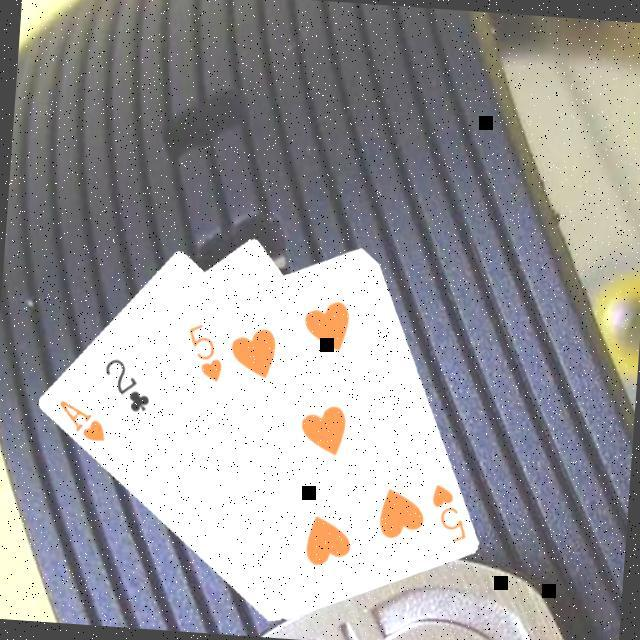2C: (96, 354, 154, 418)
5H: (424, 480, 472, 548), (180, 319, 227, 387)
AH: (51, 397, 110, 447)
